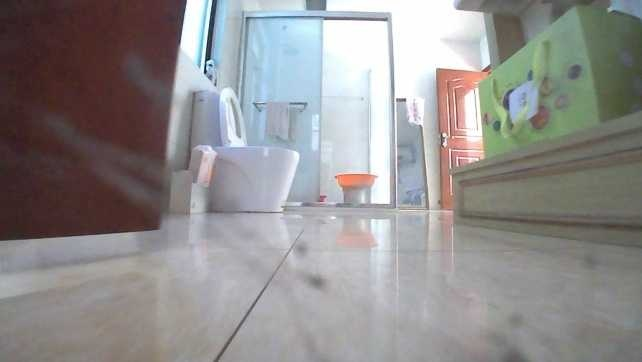toilet: (186, 84, 301, 213)
